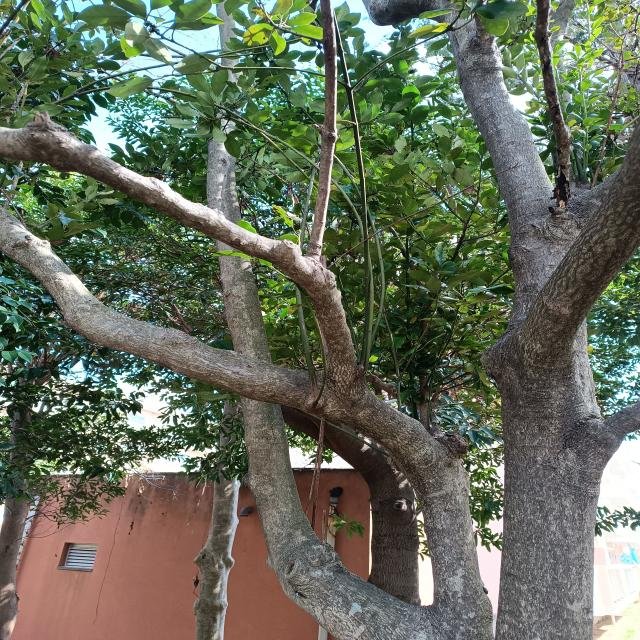Branch: (0, 203, 488, 603), (204, 116, 433, 640), (1, 112, 367, 375), (364, 0, 556, 230), (522, 140, 637, 350)
Twig: (307, 0, 337, 260), (607, 402, 640, 434)
